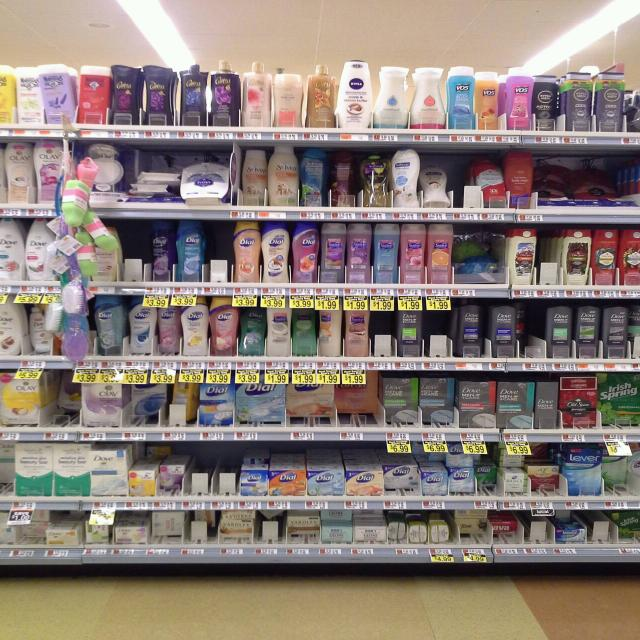unorganised: (239, 147, 505, 209), (385, 442, 563, 495), (237, 371, 381, 427), (534, 151, 639, 205), (40, 65, 111, 125), (127, 369, 198, 426), (384, 374, 457, 426), (454, 509, 523, 544), (188, 511, 255, 542), (44, 368, 78, 428), (94, 295, 127, 356), (476, 69, 506, 133), (146, 219, 174, 282), (1, 508, 44, 548), (605, 446, 640, 494), (535, 74, 564, 129), (155, 297, 182, 354), (240, 298, 266, 357), (22, 303, 51, 355), (129, 172, 182, 197), (158, 449, 185, 495), (319, 300, 341, 356), (287, 507, 318, 545), (293, 306, 317, 355), (151, 511, 185, 545), (1, 441, 13, 495), (619, 510, 640, 540)
